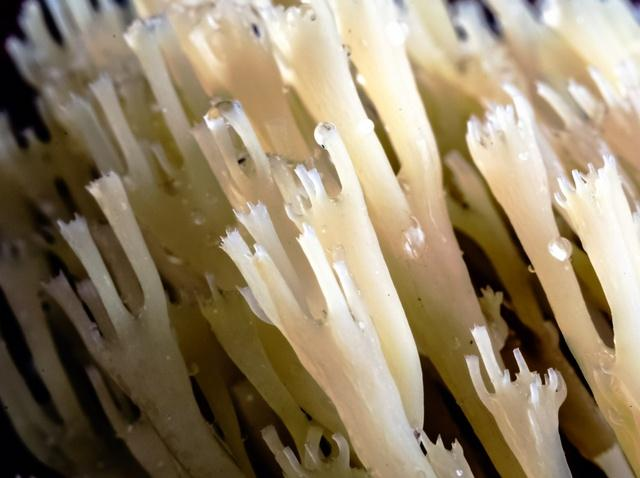edible_mushroom: (0, 0, 639, 477), (186, 96, 476, 477)
